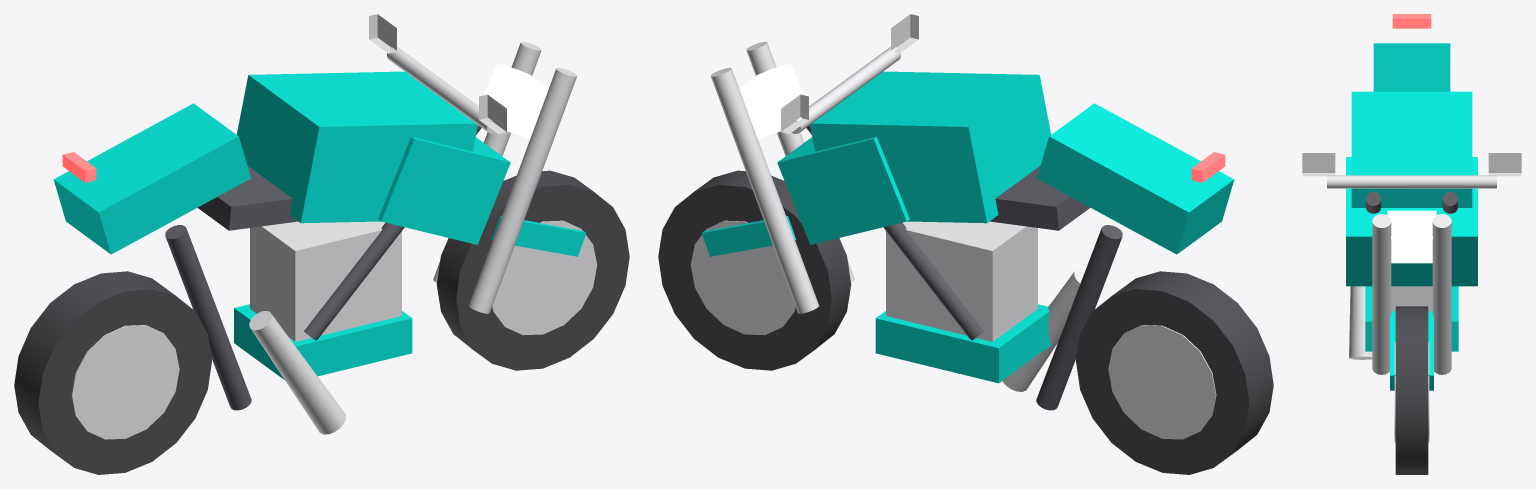
File: sports_bike.glb
3 views of the same model, side by side, from view 1: azimuth 30°, elevation 25°; view 2: azimuth 150°, elevation 25°; view 3: azimuth 270°, elevation 25° (orthographic). The views are drawn at different scales.
Visible parts, largest first — view 1: Body, Wheel_Rear, Wheel_Front, Chrome, Engine, Rim_Rear, Rim_Front, Chassis, Seat, Headlight, Taillight; view 2: Body, Wheel_Rear, Wheel_Front, Engine, Chrome, Rim_Rear, Rim_Front, Chassis, Seat, Headlight, Taillight; view 3: Body, Chrome, Wheel_Front, Headlight, Engine, Chassis, Taillight, Rim_Front.
Part boxes in pixels (x1,y1,x2,y2): Body: [53, 71, 586, 379]; Wheel_Rear: [14, 271, 211, 474]; Wheel_Front: [436, 170, 629, 370]; Chrome: [249, 14, 577, 434]; Engine: [250, 221, 401, 341]; Rim_Rear: [71, 325, 179, 439]; Rim_Front: [492, 220, 597, 335]; Chassis: [165, 125, 481, 410]; Seat: [198, 166, 297, 230]; Headlight: [478, 63, 548, 138]; Taillight: [62, 152, 96, 182]; Body: [701, 71, 1234, 383]; Wheel_Rear: [1076, 271, 1273, 474]; Wheel_Front: [658, 170, 851, 370]; Engine: [886, 221, 1037, 341]; Chrome: [710, 14, 1085, 391]; Rim_Rear: [1108, 325, 1216, 439]; Rim_Front: [690, 220, 795, 335]; Chassis: [806, 125, 1122, 410]; Seat: [990, 166, 1089, 230]; Headlight: [739, 63, 809, 138]; Taillight: [1191, 152, 1225, 182]; Body: [1346, 43, 1477, 390]; Chrome: [1302, 153, 1521, 374]; Wheel_Front: [1395, 306, 1428, 474]; Headlight: [1387, 210, 1436, 263]; Engine: [1391, 286, 1432, 311]; Chassis: [1366, 191, 1457, 213]; Taillight: [1392, 14, 1431, 28]; Rim_Front: [1394, 342, 1429, 443].
Bounding box in the file's own units: 2.12 × 1.1 × 0.8.
